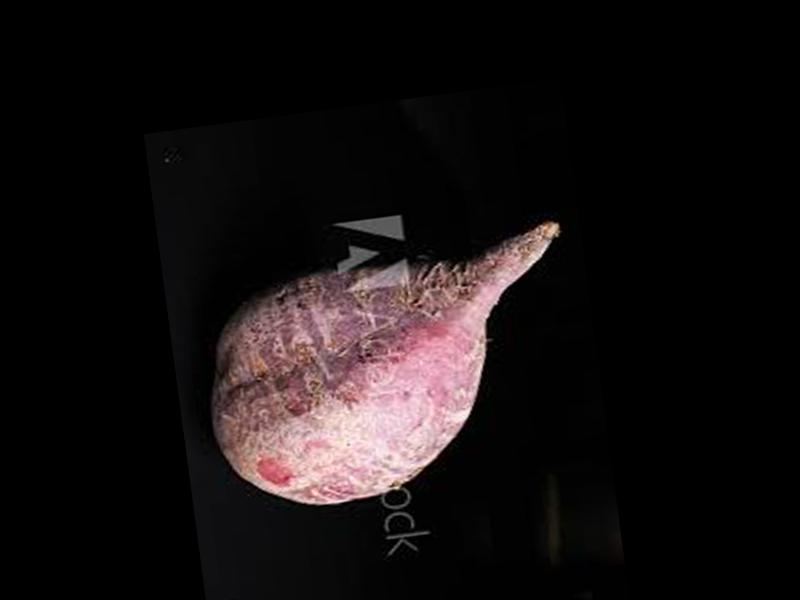Beet: (196, 223, 591, 519)
